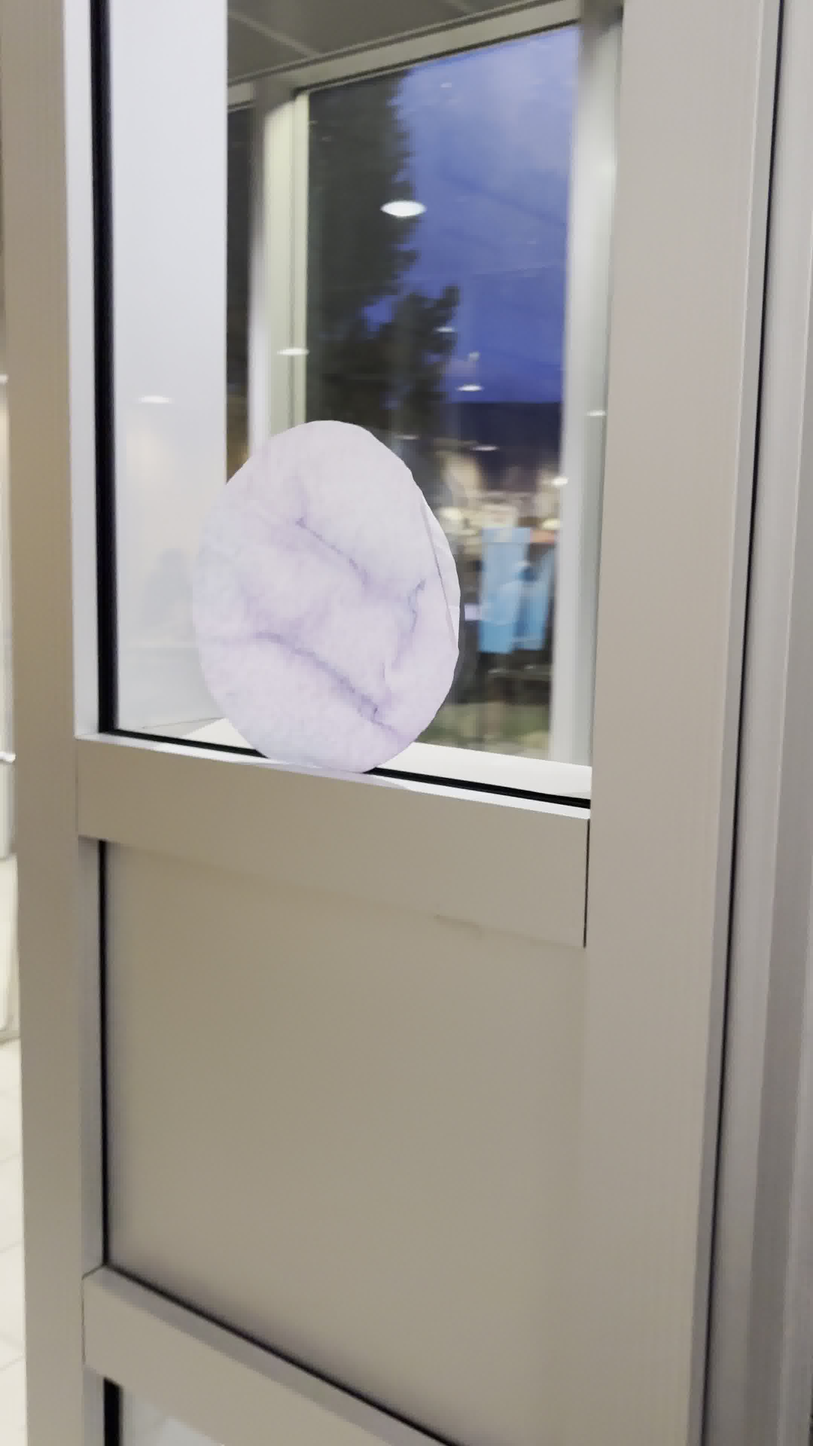Target: (191, 415, 465, 782)
